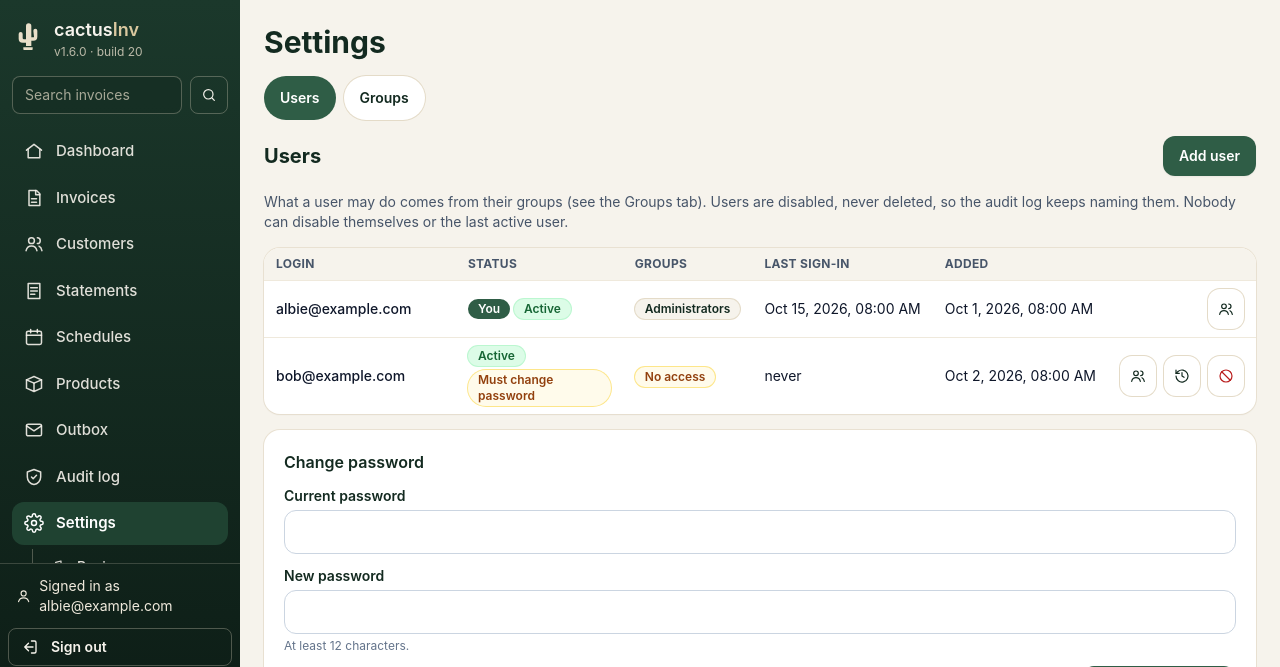
Test case: changes a user's groups
The image size is (1280, 667).
Expected: the heading "Users" is shown, [264,142,321,170]
Click the button named "Change the groups of bob@example.com". click: (1138, 376)
box: [1120,356,1156,396]
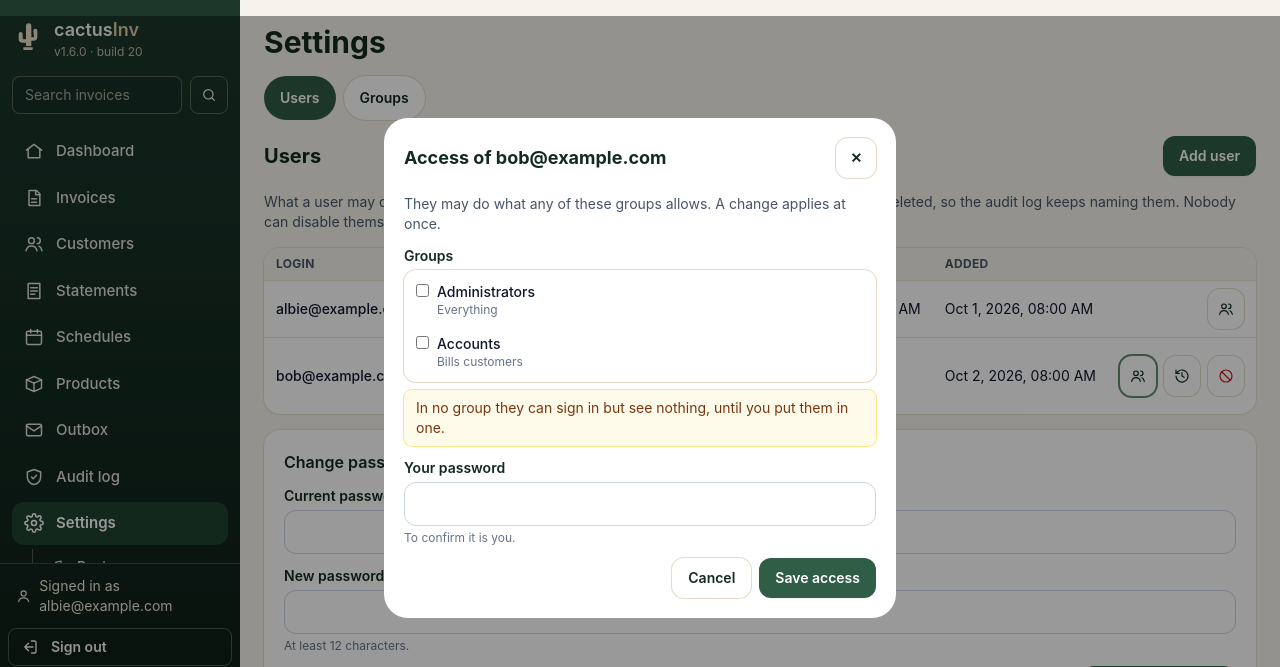
Click the checkbox labelled "Accounts Bills customers". click: (422, 342)
box: [416,336,429,349]
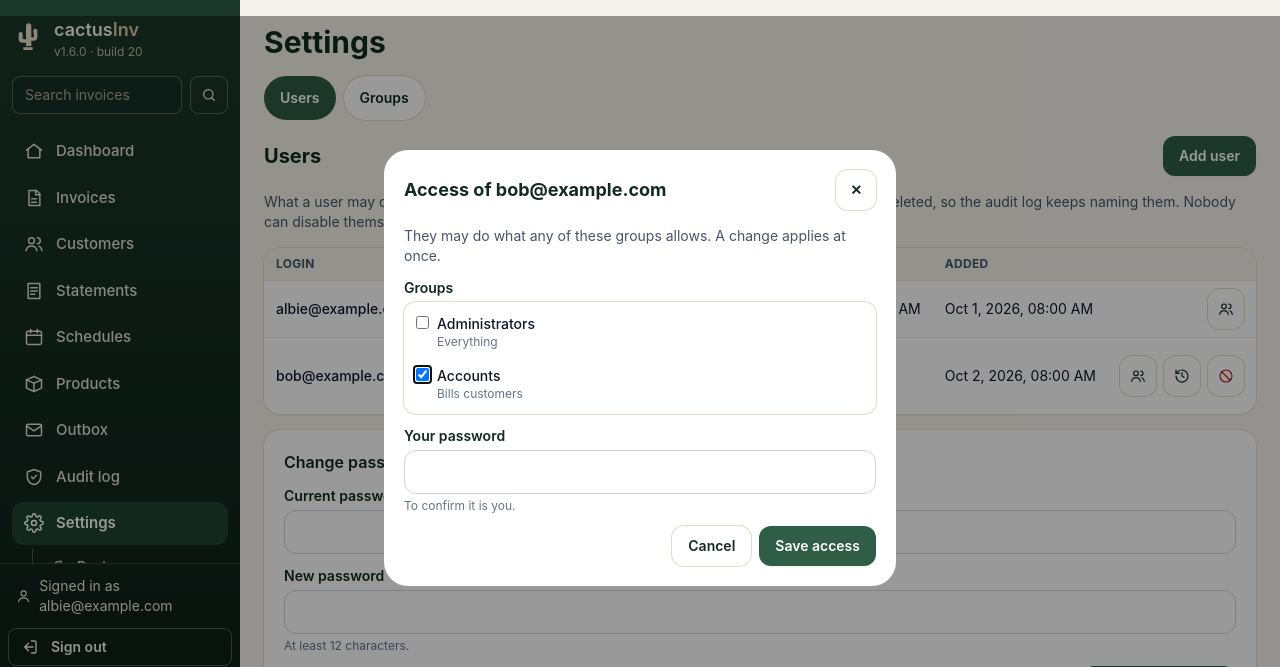
Type "correct horse battery" into the password field labelled "Your password". click: (640, 472)
box: [404,450,876,494]
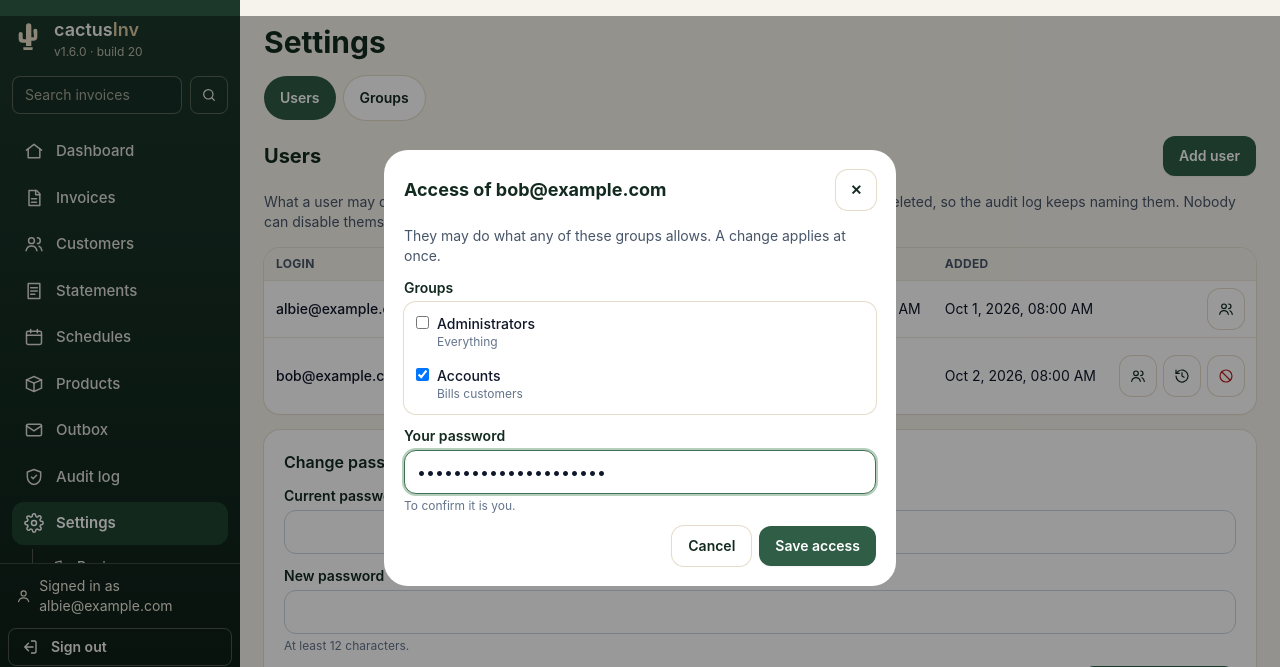
Click the button "Save access". click: (818, 546)
box: [759,526,876,566]
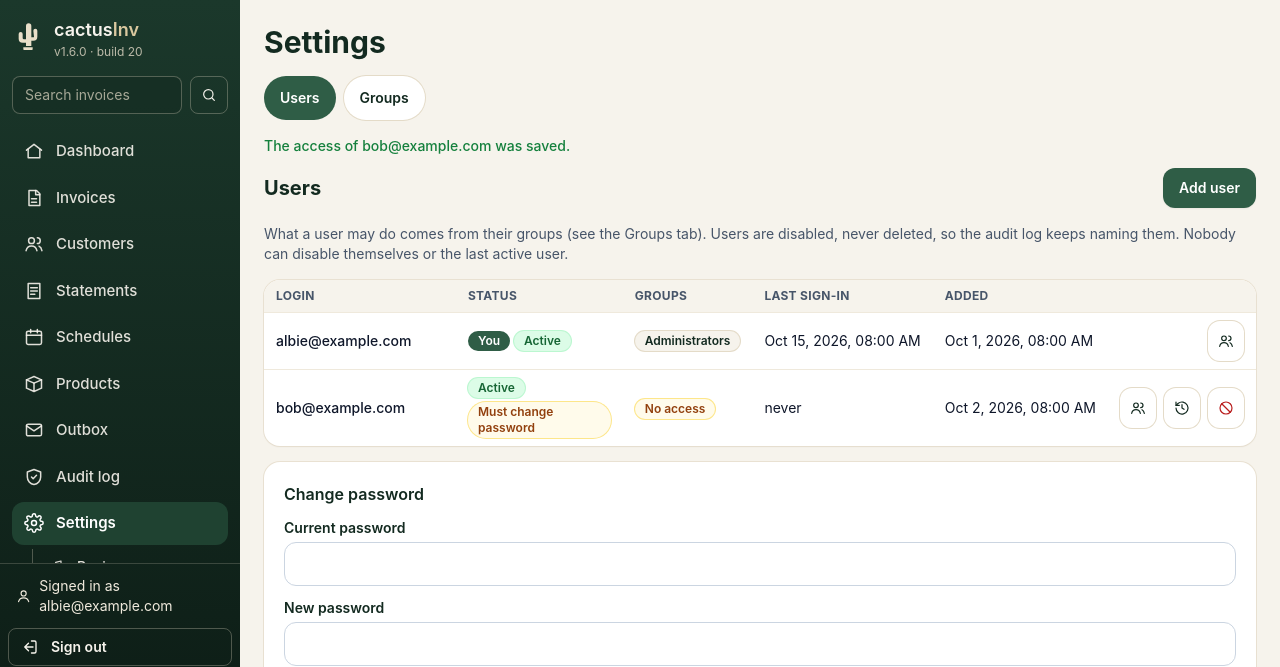
Expected: the text "The access of bob@example.com was saved." is shown, [264,137,570,154]
